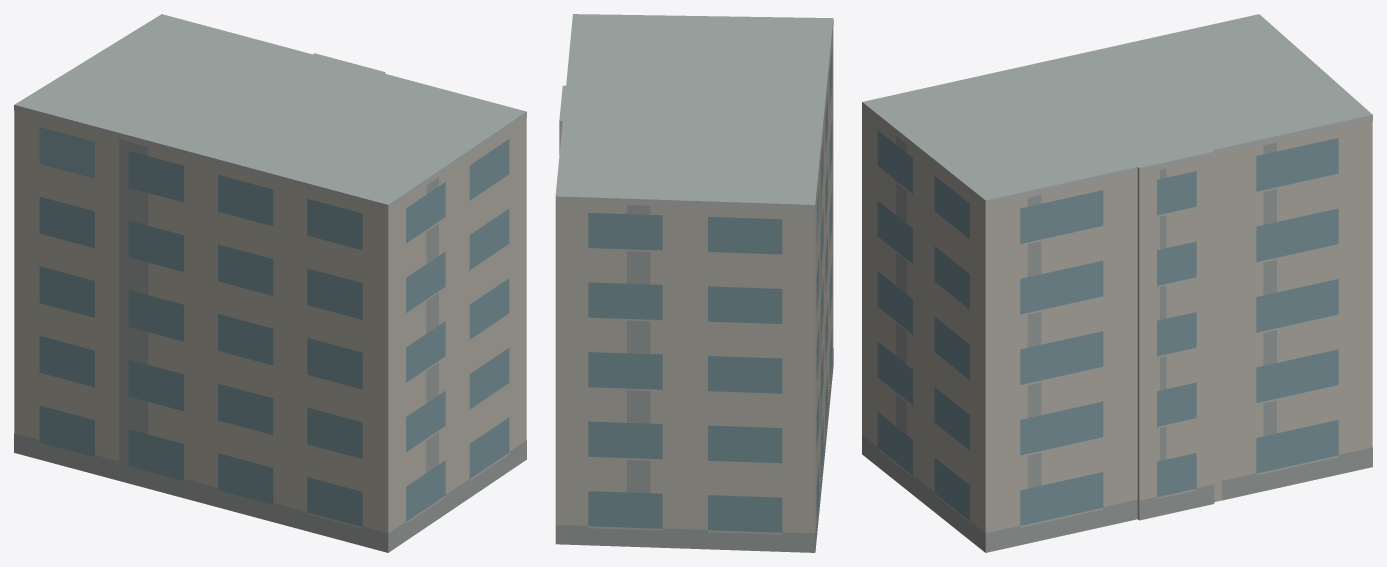
Rendered from survey-upis-32882520.glb.
3 views of the same model, side by side, from view 1: azimuth 30°, elevation 25°; view 2: azimuth 150°, elevation 25°; view 3: azimuth 270°, elevation 25° (orthographic).
Parts seen in each view (by area): view 1: survey-upis-32882520.tmp; view 2: survey-upis-32882520.tmp; view 3: survey-upis-32882520.tmp.
Part boxes in pixels (x1,y1,x2,y2): survey-upis-32882520.tmp: [14, 14, 526, 552]; survey-upis-32882520.tmp: [555, 14, 833, 552]; survey-upis-32882520.tmp: [862, 14, 1372, 552].
Size of the model in its own units: 15.11 by 13.3 by 17.48.
